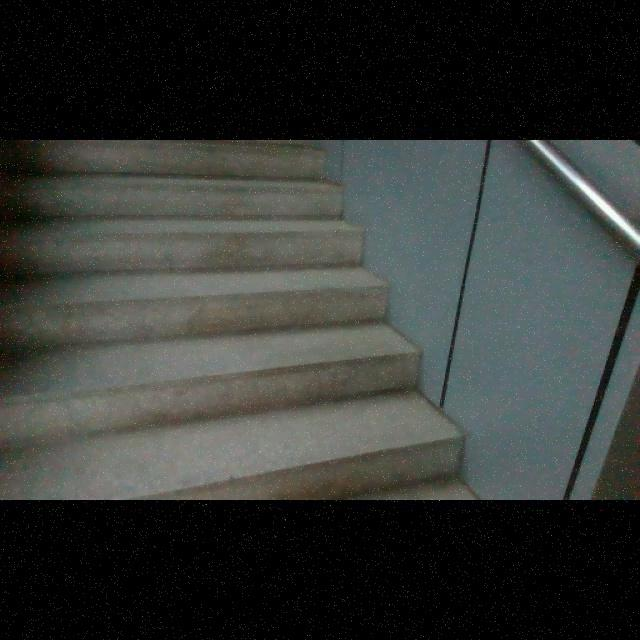stair: (0, 145, 448, 496)
